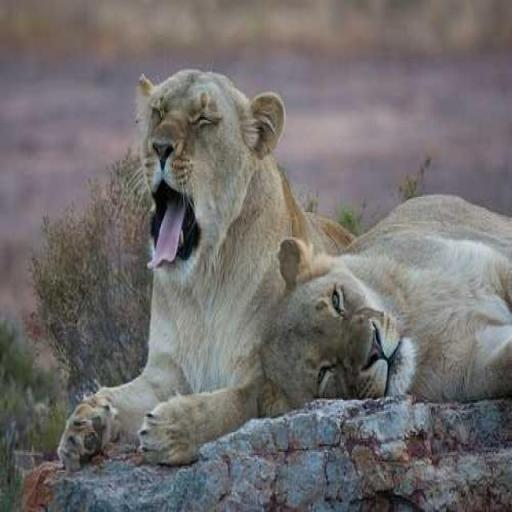Lion: (56, 66, 356, 471)
